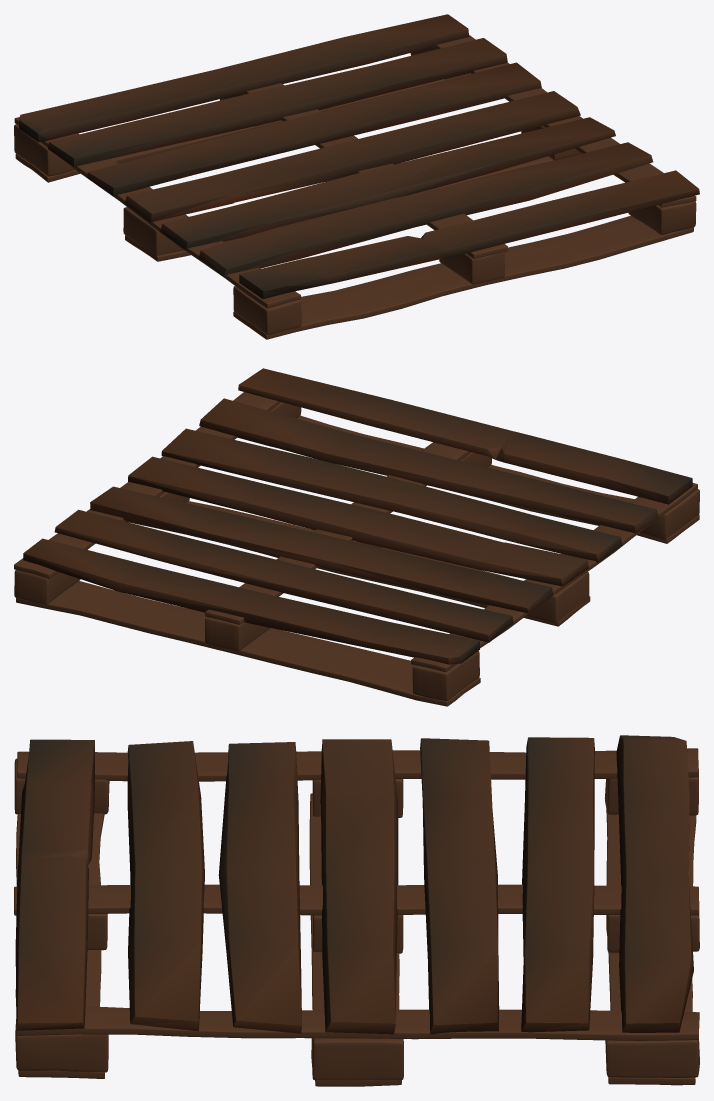
Rendered from Raft 1.fbx.
The picture shows the model from 3 angles, top to bottom: view 1: azimuth 30°, elevation 25°; view 2: azimuth 150°, elevation 25°; view 3: azimuth 270°, elevation 25°; orthographic projection. The views are drawn at different scales.
Parts seen in each view (by area): view 1: Pallet..001; view 2: Pallet..001; view 3: Pallet..001.
Boxes of the visible parts, x1,y1,x2,y2 form: Pallet..001: [14, 14, 699, 339]; Pallet..001: [14, 368, 699, 706]; Pallet..001: [14, 735, 699, 1086].
Bounding box in the file's own units: 100 × 11.27 × 100.
